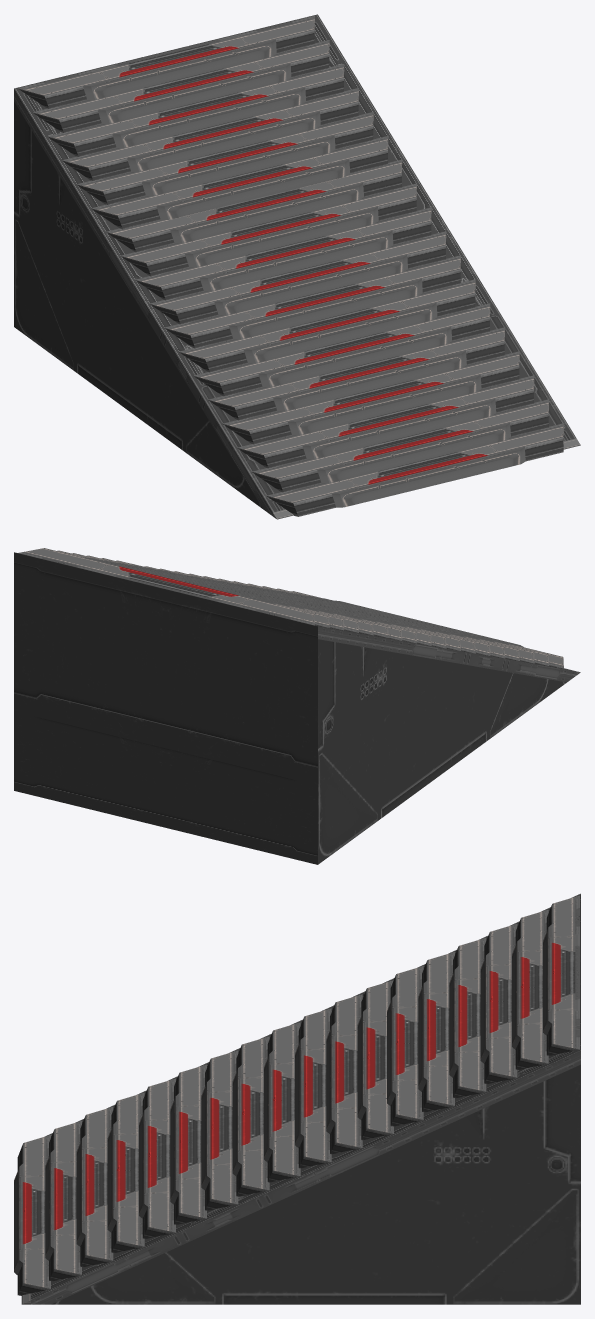
File: Platform_Stairs_4WideTall.gltf
3 views of the same model, one above another, from view 1: azimuth 30°, elevation 25°; view 2: azimuth 150°, elevation 25°; view 3: azimuth 270°, elevation 25° (orthographic). The views are drawn at different scales.
Parts seen in each view (by area): view 1: Platform_Stairs_4WideTall; view 2: Platform_Stairs_4WideTall; view 3: Platform_Stairs_4WideTall.
Boxes of the visible parts, <box> form: Platform_Stairs_4WideTall: <box>14,14,580,519</box>; Platform_Stairs_4WideTall: <box>14,548,580,864</box>; Platform_Stairs_4WideTall: <box>14,893,580,1304</box>.
Bounding box in the file's own units: 4 × 3.01 × 6.08.
2 materials, 2 textured.
